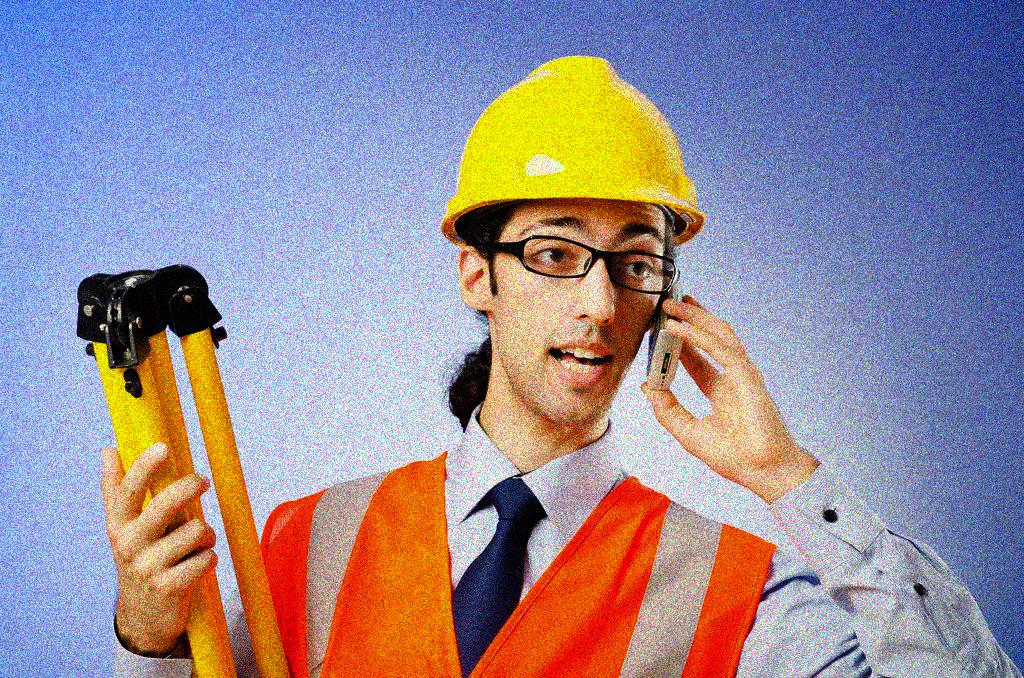helmet: (431, 58, 707, 428)
